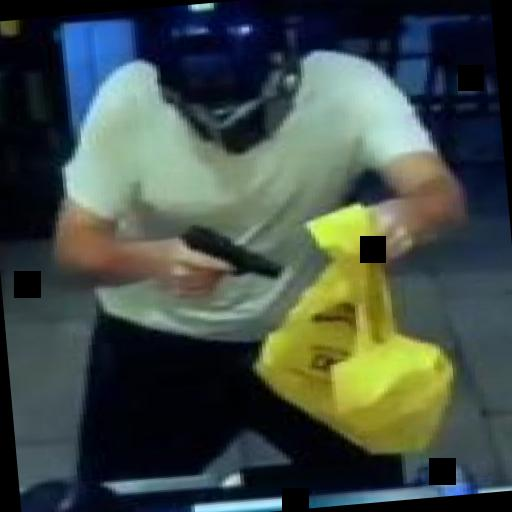Handgun: (162, 212, 282, 296)
